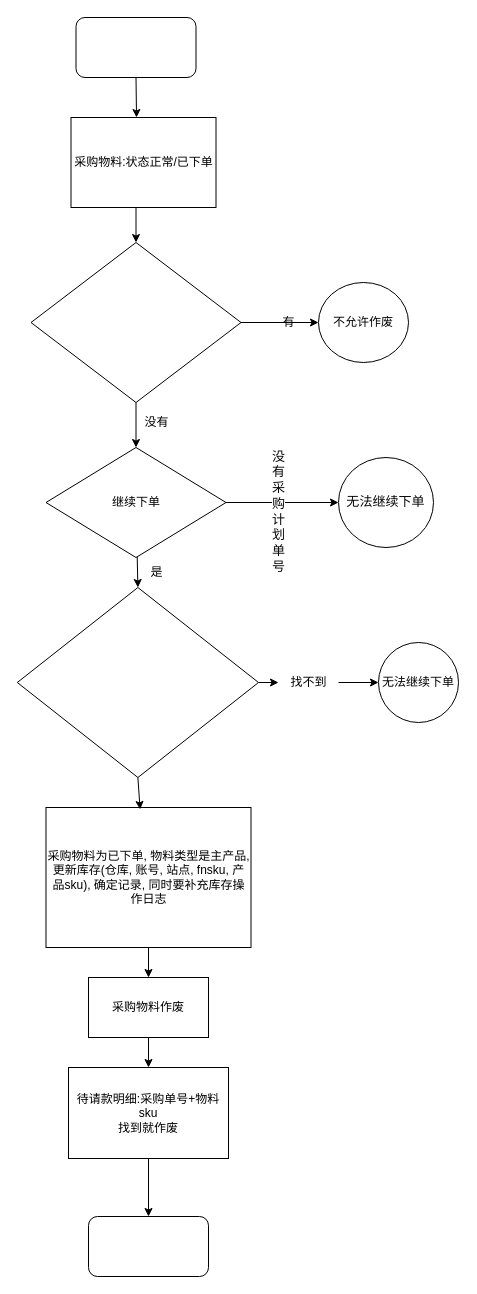
Image size: 477x1294. Some labels were removed from this diagram. The centre of each missing label's shape, as x and y in pixels:
"检查请款单: 请款单号, 状态为作废, 是否有相应的请款明细" belongs at point 135,322.
"物料作废" belongs at point 135,47.
"结束" belongs at point 148,1246.
"采购计划物料: 找物料sku/采购计划单/状态为已下单" belongs at point 137,682.
